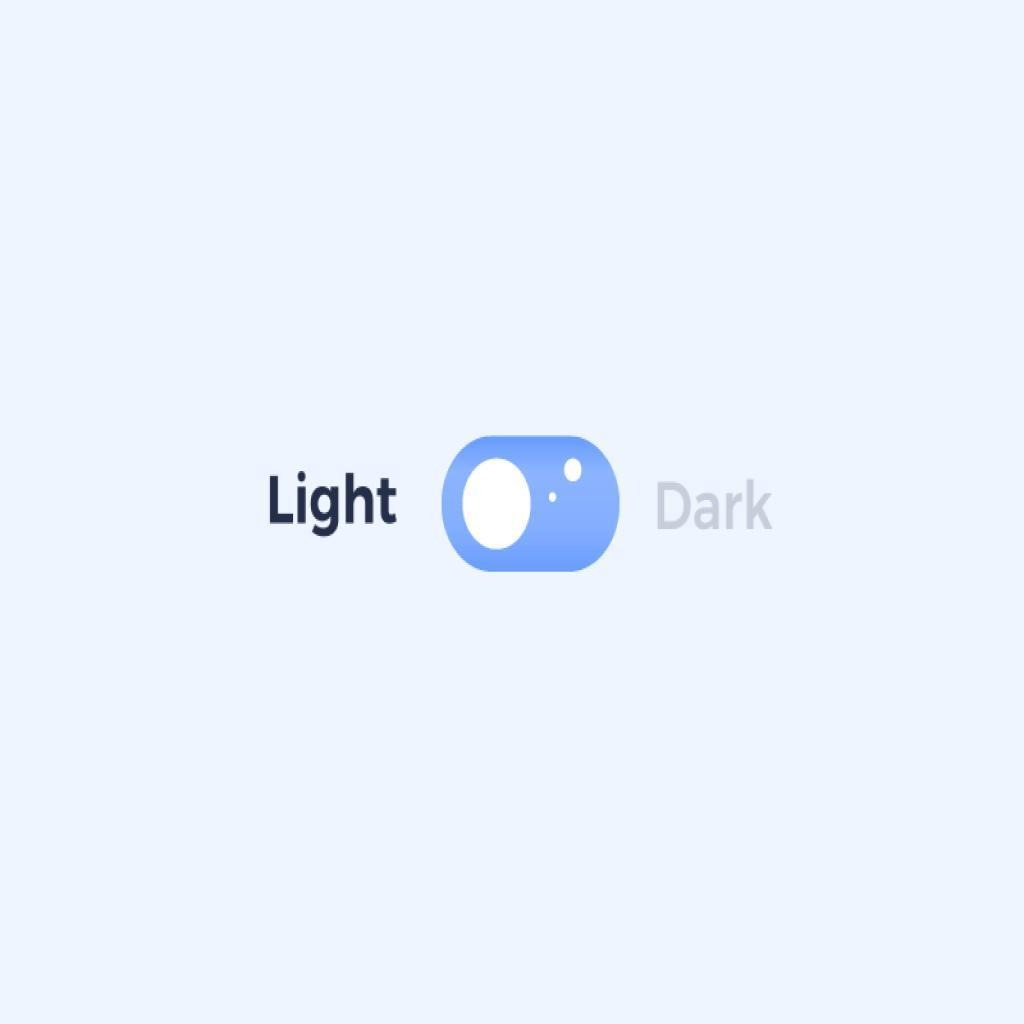switch: (435, 436, 624, 571)
